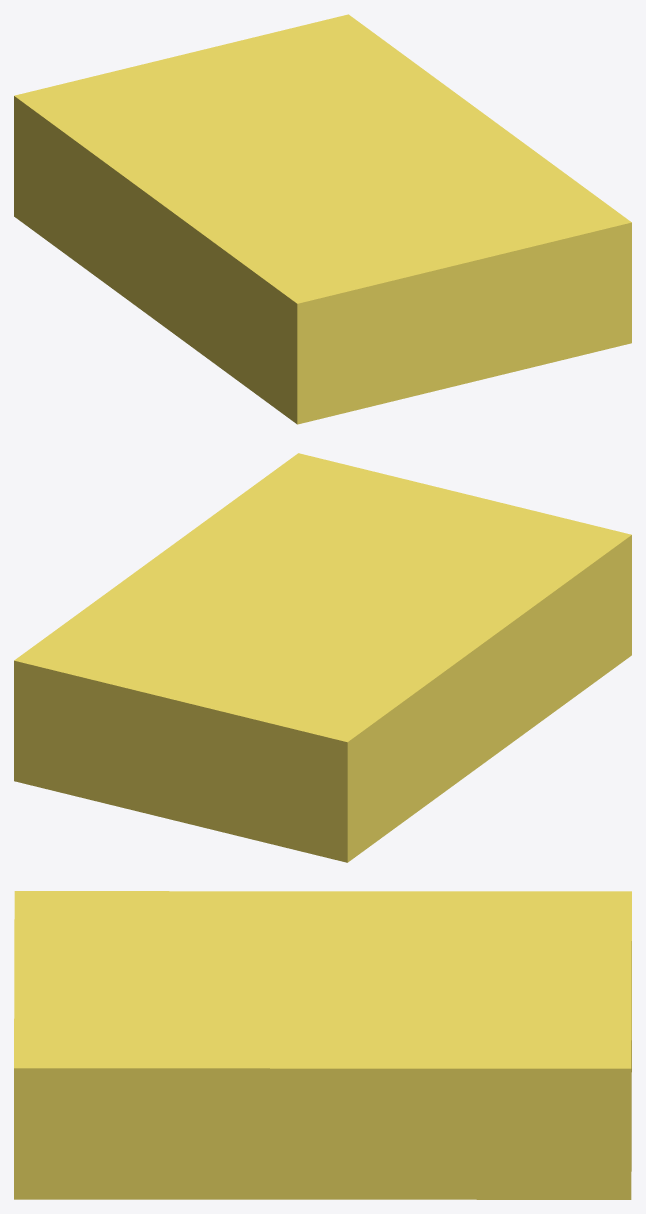
Rendered from Device.glb.
3 renders of one model, top to bottom at view 1: azimuth 30°, elevation 25°; view 2: azimuth 150°, elevation 25°; view 3: azimuth 270°, elevation 25°, orthographic. The views are drawn at different scales.
Parts seen in each view (by area): view 1: Cube; view 2: Cube; view 3: Cube.
Boxes of the visible parts, <box> form: Cube: <box>14,14,631,424</box>; Cube: <box>14,453,631,862</box>; Cube: <box>14,891,631,1199</box>.
Size of the model in its own units: 0.6134 by 0.2113 by 0.9019.
1 material, 1 textured.
